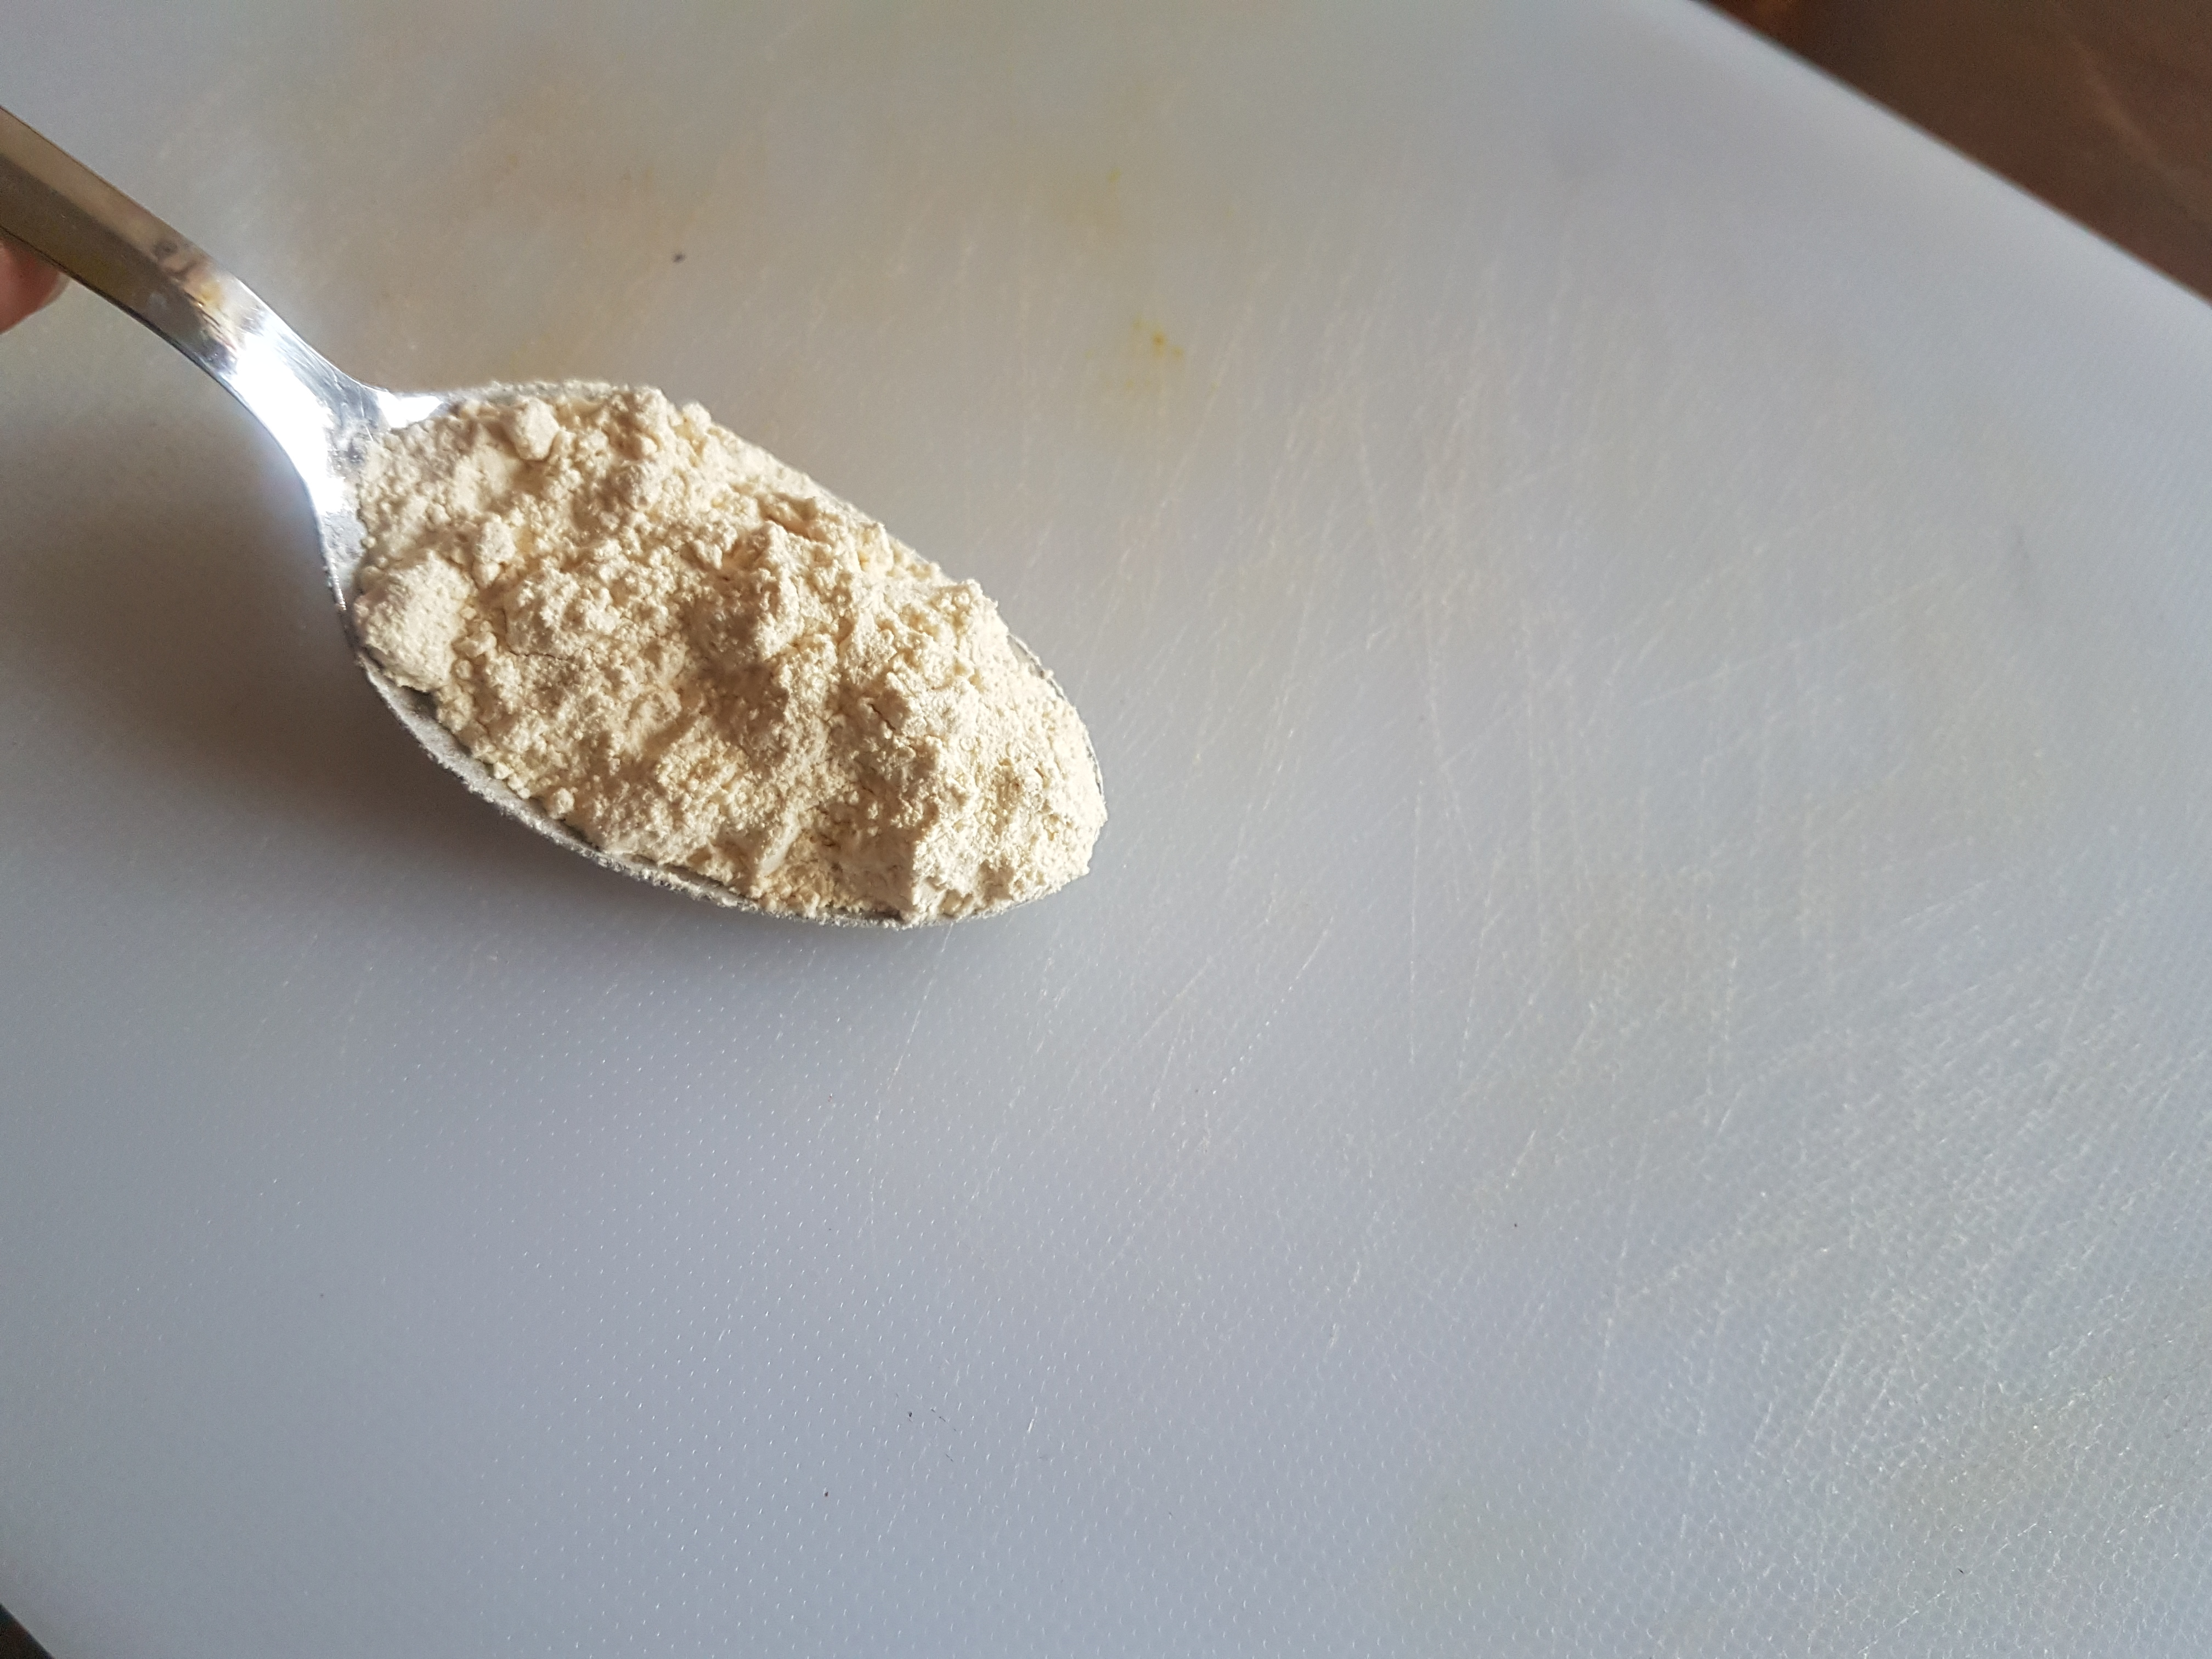Gram Flour: (314, 328, 1188, 993)
